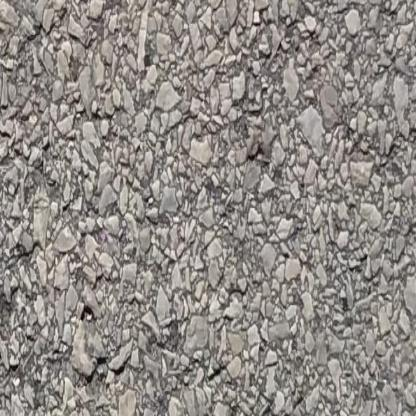Cracks: (0, 284, 19, 416)
